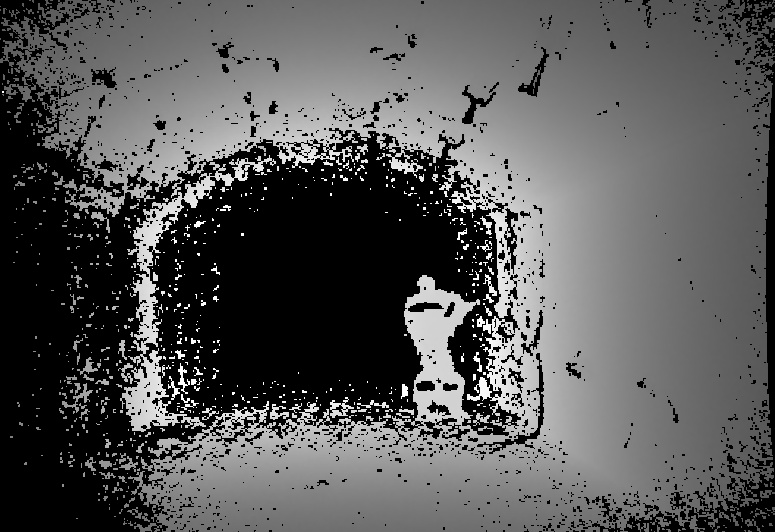person: (404, 273, 481, 420)
